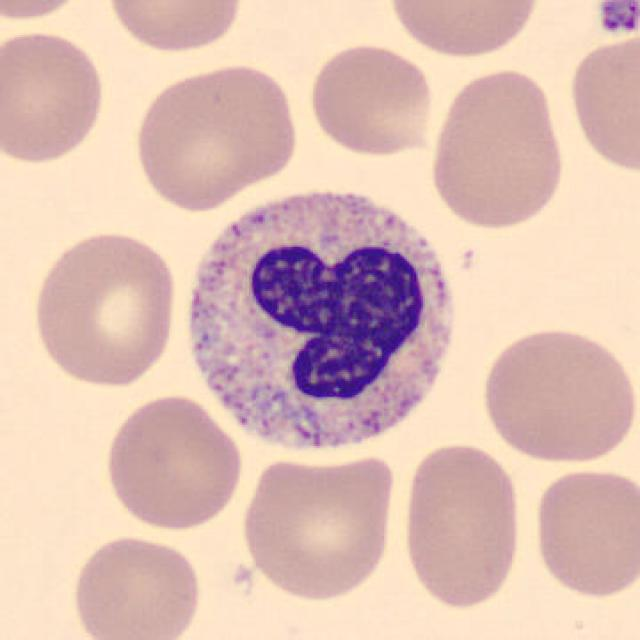Neutrophil: (172, 178, 470, 467)
Platelets: (592, 0, 640, 39)
RBC: (128, 60, 302, 212), (27, 226, 181, 390), (236, 450, 400, 603), (425, 65, 569, 233), (475, 322, 638, 466), (398, 439, 526, 614), (100, 392, 246, 532), (304, 38, 437, 158), (65, 530, 206, 640), (0, 24, 108, 167), (528, 464, 638, 601), (563, 31, 640, 176), (384, 0, 544, 62), (103, 0, 247, 55), (0, 0, 94, 23)
